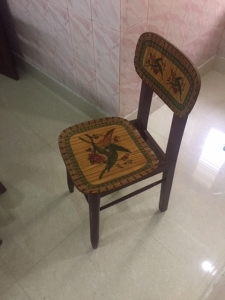chair: (57, 31, 201, 250)
